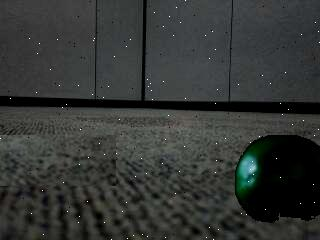Lime: (233, 134, 320, 224)
